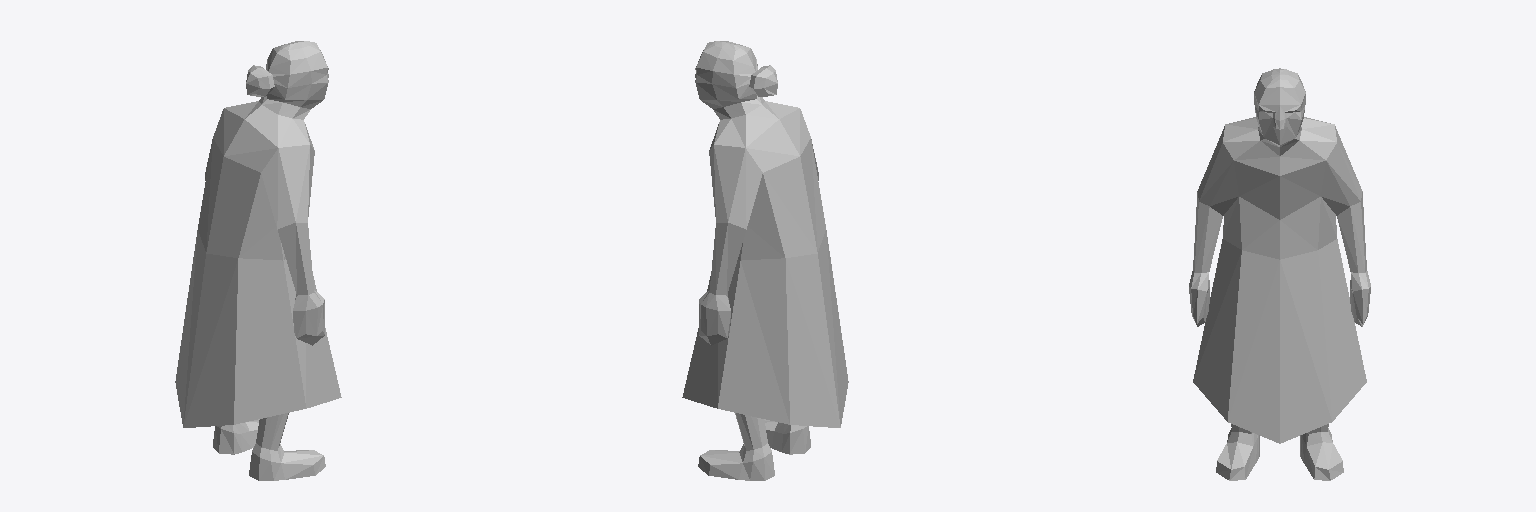
Rendered from lady.obj.
3 views of the same model, side by side, from view 1: azimuth 30°, elevation 25°; view 2: azimuth 150°, elevation 25°; view 3: azimuth 270°, elevation 25° (orthographic).
Visible parts, largest first — view 1: Plane_OldLady_0; view 2: Plane_OldLady_0; view 3: Plane_OldLady_0.
Part boxes in pixels (left/top/right/bottom): Plane_OldLady_0: left=175, top=41, right=341, bottom=480; Plane_OldLady_0: left=682, top=41, right=848, bottom=480; Plane_OldLady_0: left=1189, top=68, right=1370, bottom=480.
Size of the model in its own units: 0.0545 by 0.1455 by 0.0593.